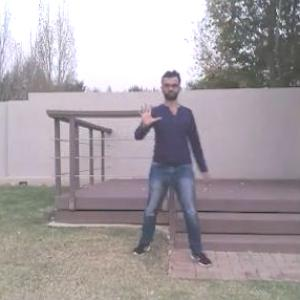follow_hand: (133, 99, 163, 131)
